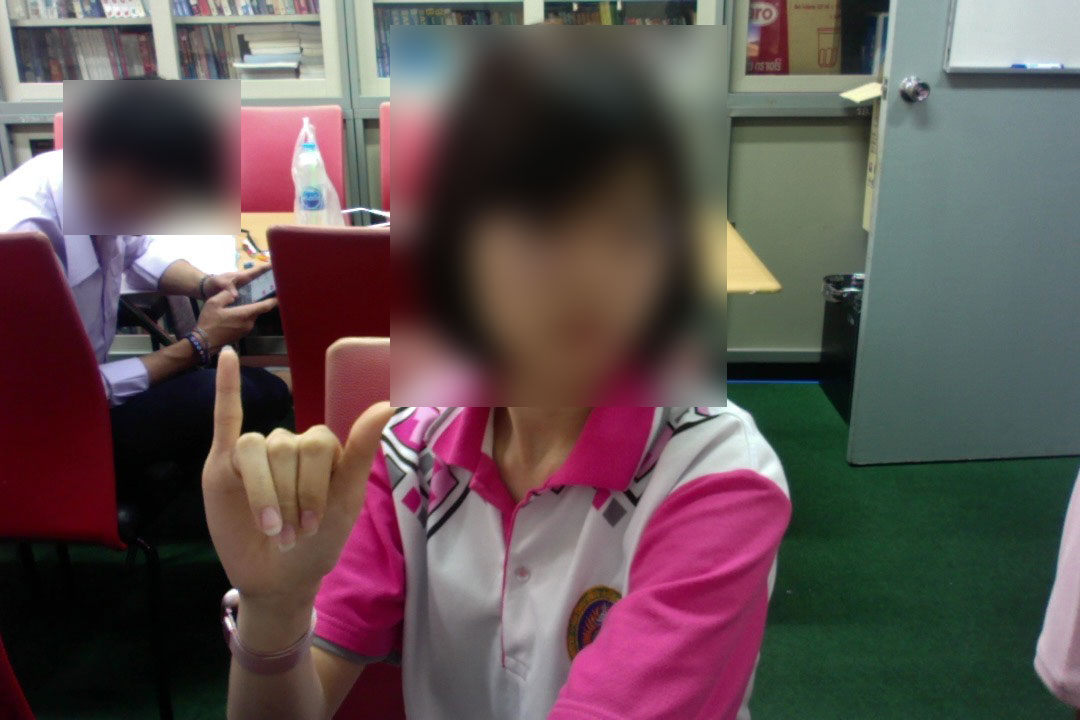yor: (188, 333, 408, 616)
